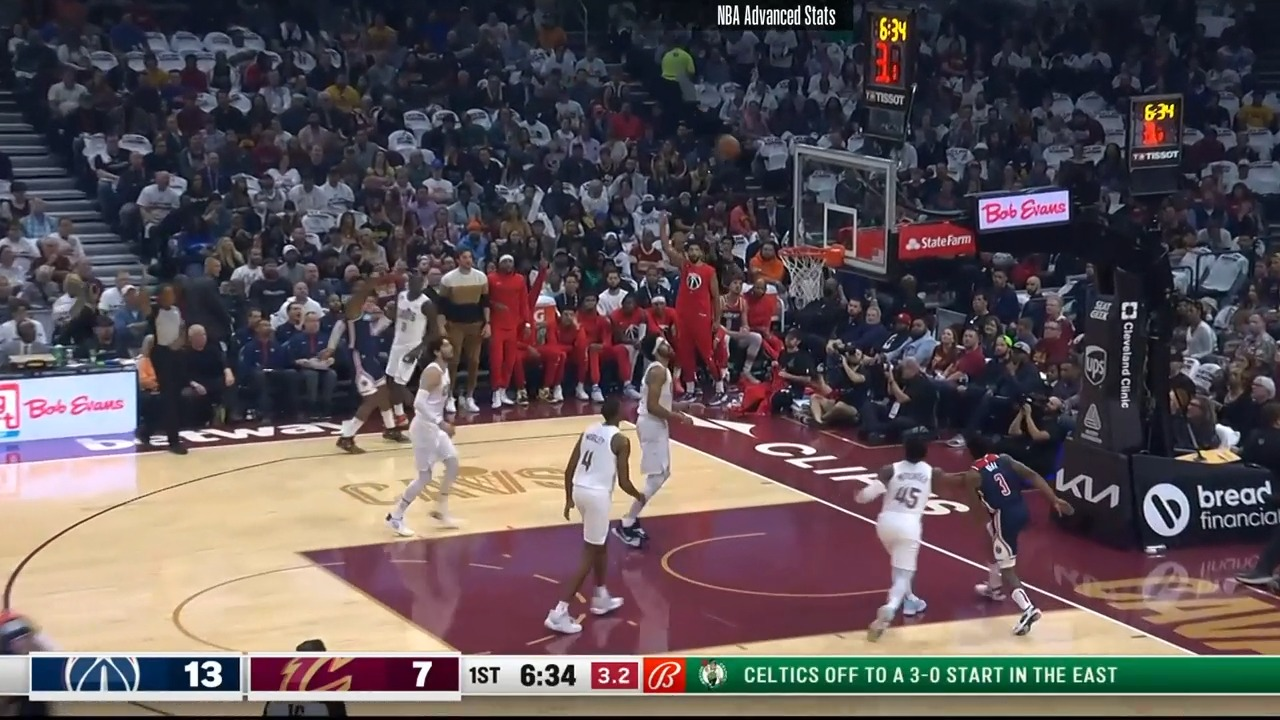net: (773, 241, 846, 301)
player: (947, 423, 1078, 638), (844, 430, 959, 641), (553, 393, 646, 635), (609, 330, 684, 551), (387, 336, 466, 538), (331, 259, 408, 460), (382, 268, 442, 441)
